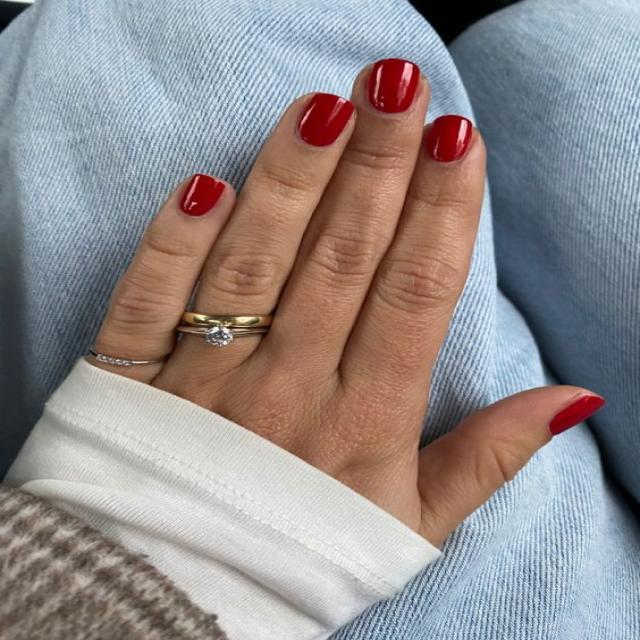Fingernail: (367, 58, 420, 114), (299, 94, 354, 146), (425, 115, 472, 162), (551, 395, 603, 434), (180, 174, 225, 217)
